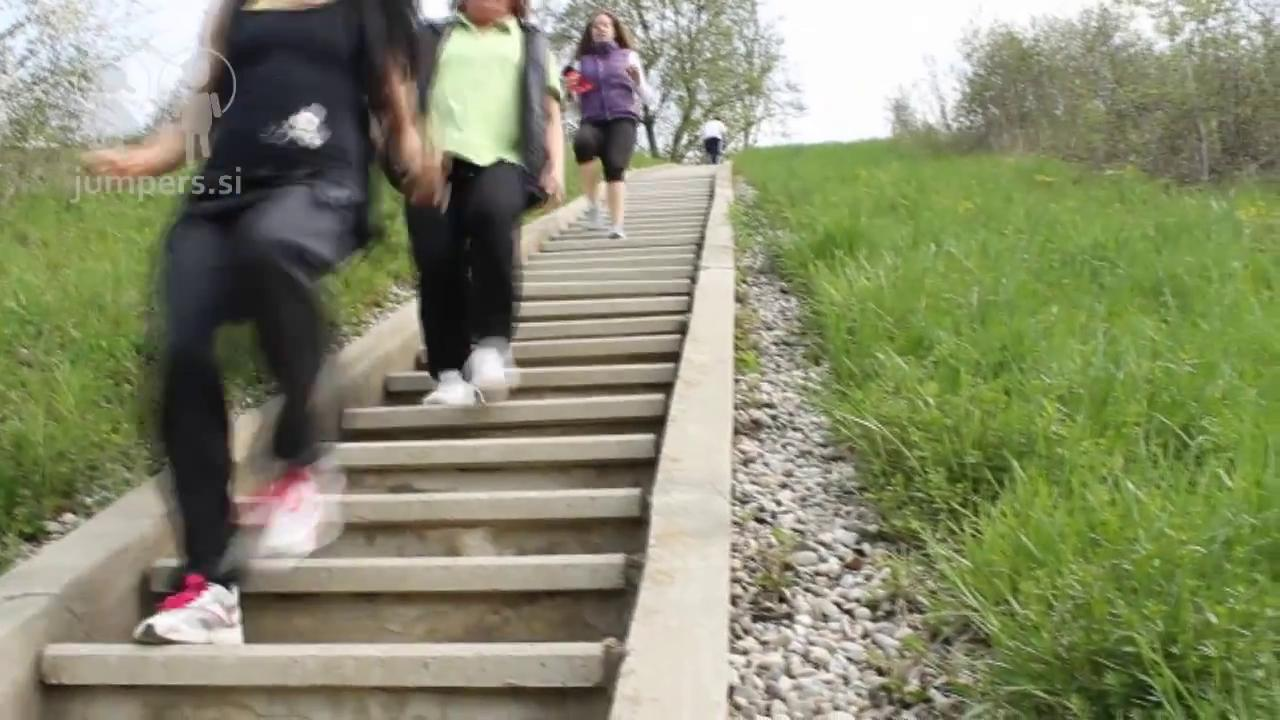victim: (83, 0, 456, 651), (377, 1, 571, 420), (550, 13, 658, 242), (701, 114, 731, 169)
